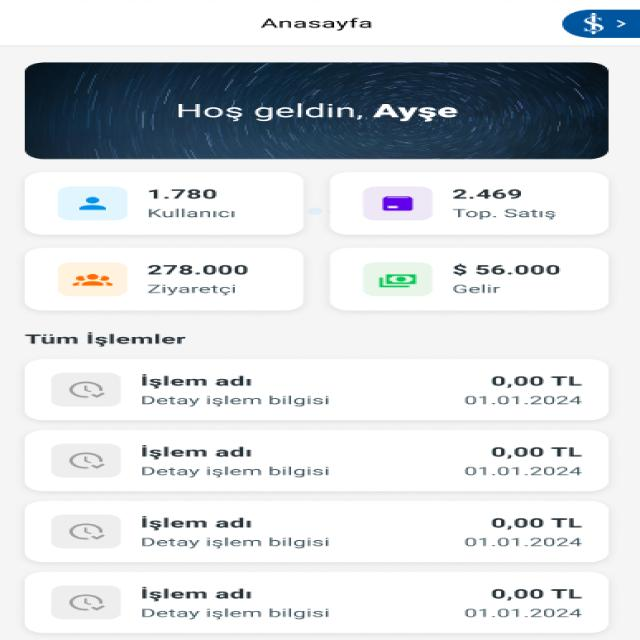QLabel: (137, 606, 335, 620), (135, 394, 334, 407), (136, 536, 334, 549), (135, 465, 333, 478), (19, 332, 187, 345), (136, 372, 256, 388), (137, 444, 253, 458), (136, 515, 252, 529), (138, 586, 252, 600), (461, 536, 583, 548), (462, 607, 584, 619), (450, 207, 558, 220), (452, 264, 563, 276), (462, 395, 583, 406), (483, 375, 582, 388), (143, 283, 239, 296), (461, 466, 583, 476), (146, 207, 239, 220), (486, 446, 584, 458), (487, 588, 585, 600), (487, 517, 584, 529), (146, 264, 251, 275), (145, 187, 221, 201), (450, 189, 521, 199), (449, 283, 503, 295)
VAppBar: (0, 0, 640, 47), (254, 16, 376, 32)
VCard: (22, 501, 615, 566), (18, 430, 617, 494), (22, 572, 614, 636), (22, 358, 612, 422), (326, 172, 613, 238), (23, 171, 305, 236), (24, 248, 305, 313), (327, 248, 611, 312)
VImg: (25, 62, 607, 160), (361, 261, 434, 298), (49, 371, 120, 407), (361, 186, 434, 221), (50, 443, 122, 478), (50, 514, 122, 549), (58, 185, 128, 221), (59, 261, 127, 296), (51, 586, 120, 620), (563, 8, 640, 38)
